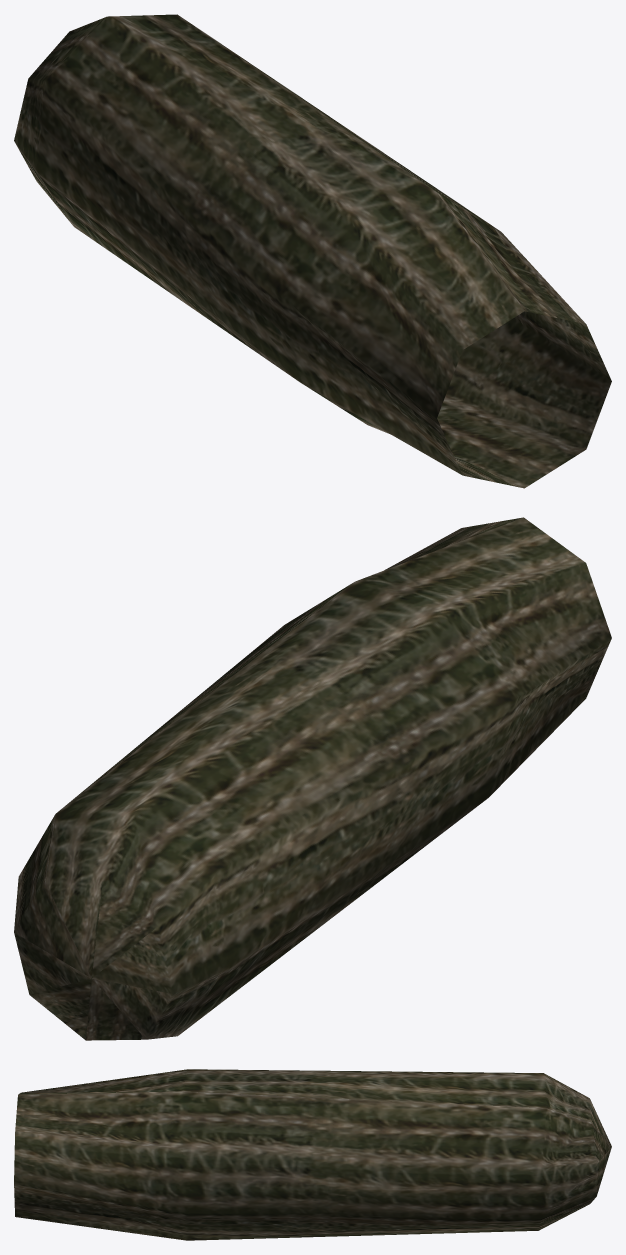
The model's file is MEP_Cactus_h_01.fbx.
3 renders of one model, top to bottom at view 1: azimuth 30°, elevation 25°; view 2: azimuth 150°, elevation 25°; view 3: azimuth 270°, elevation 25°, orthographic. The views are drawn at different scales.
Parts seen in each view (by area): view 1: MEP_Cactus_h_01; view 2: MEP_Cactus_h_01; view 3: MEP_Cactus_h_01.
Part boxes in pixels (x1=…): MEP_Cactus_h_01: x1=14, y1=14, x2=611, y2=488; MEP_Cactus_h_01: x1=14, y1=517, x2=611, y2=1040; MEP_Cactus_h_01: x1=14, y1=1069, x2=611, y2=1240.
Bounding box in the file's own units: 0.5025 × 0.4684 × 1.71.
Materials: 1 (1 with a texture image).
